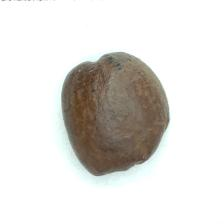NG: (86, 117, 170, 181)
